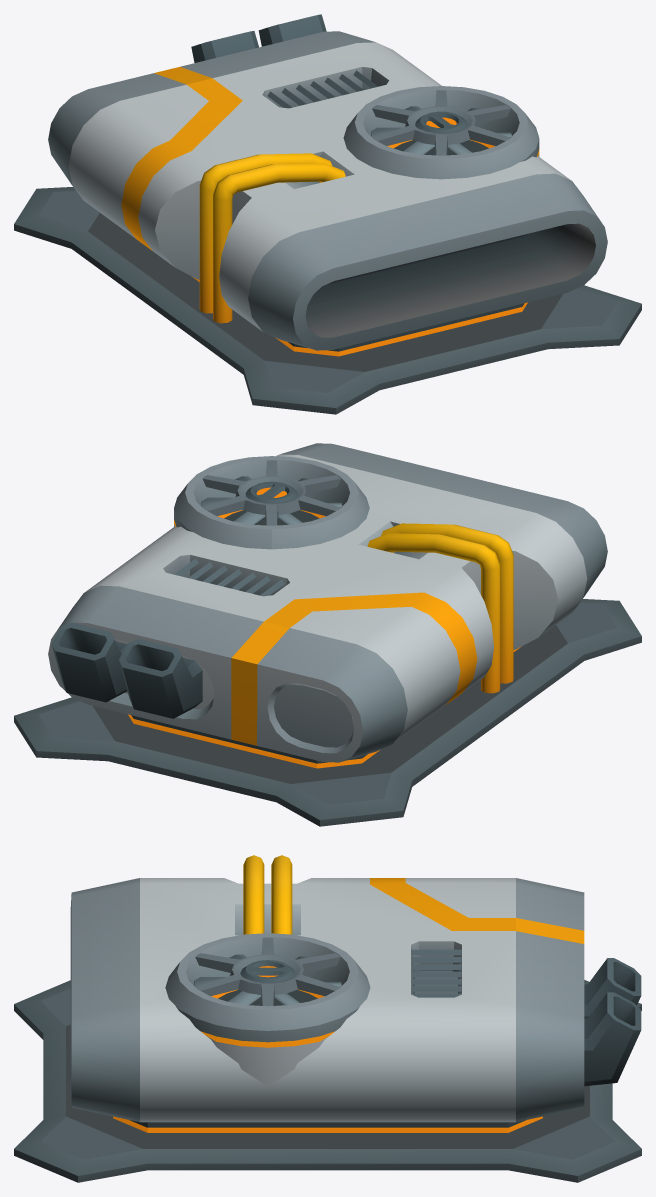
Rendered from Generator_006.glb.
3 renders of one model, top to bottom at view 1: azimuth 30°, elevation 25°; view 2: azimuth 150°, elevation 25°; view 3: azimuth 270°, elevation 25°, orthographic. The views are drawn at different scales.
Visible parts, largest first — view 1: Generator_006, Generator_rotor_003; view 2: Generator_006, Generator_rotor_003; view 3: Generator_006, Generator_rotor_003.
Part boxes in pixels (x1,y1,x2,y2): Generator_006: (14, 14, 641, 414); Generator_rotor_003: (371, 106, 511, 154); Generator_006: (14, 443, 641, 826); Generator_rotor_003: (201, 476, 342, 524); Generator_006: (14, 855, 641, 1182); Generator_rotor_003: (194, 954, 341, 1005).
Size of the model in its own units: 2.51 by 0.9465 by 3.35.
Materials: 2 (2 with a texture image).
